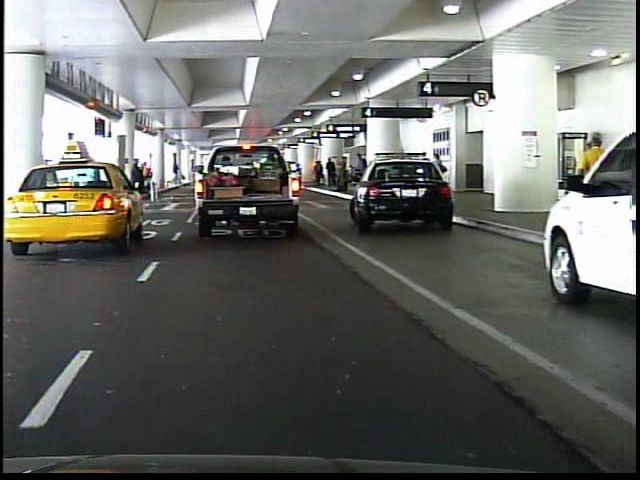person: (571, 125, 617, 250), (120, 155, 146, 217), (197, 149, 220, 202)
